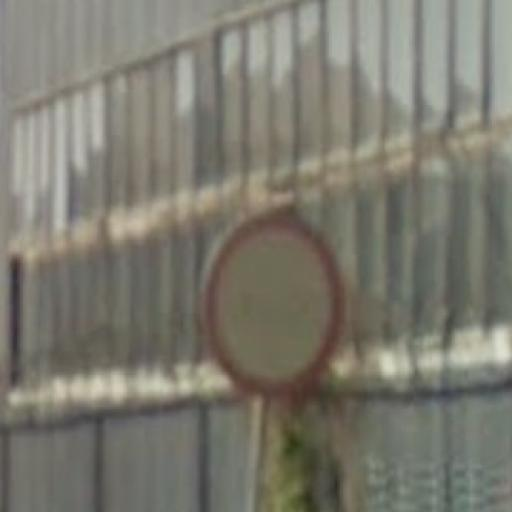traffic_sign: (202, 213, 344, 400)
